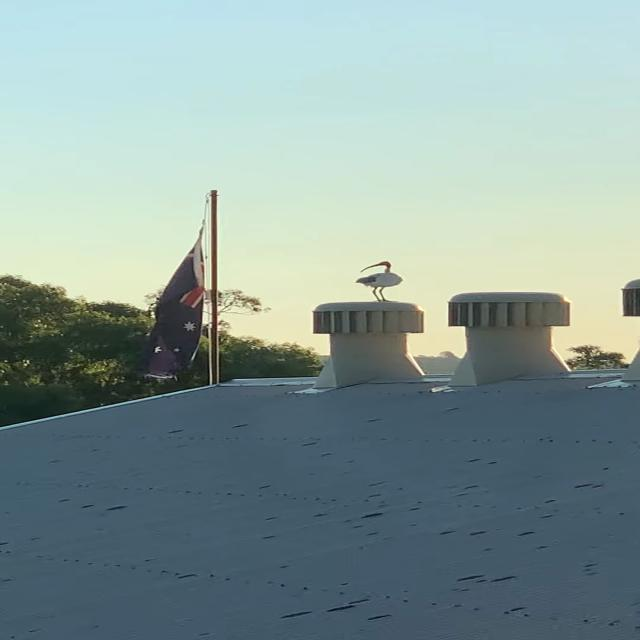Birds-Ibis: (353, 259, 405, 304)
